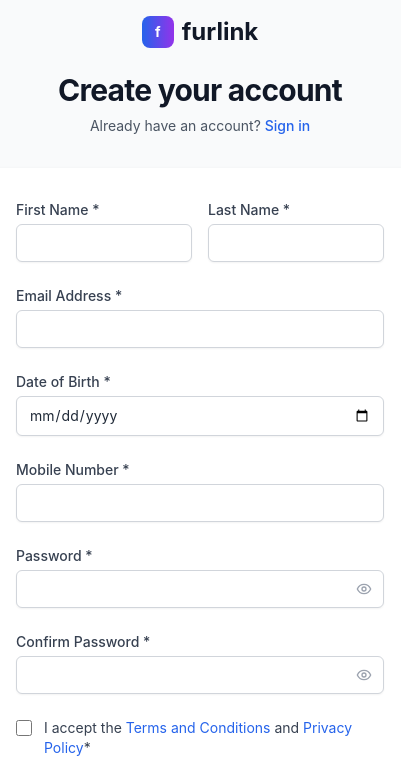
Test: SignUpPage › shows password requirements when typing password
Type "Test123!" into the password field labelled "Password *".
click(200, 589); type("Test123!")  # box [16,570,384,608]
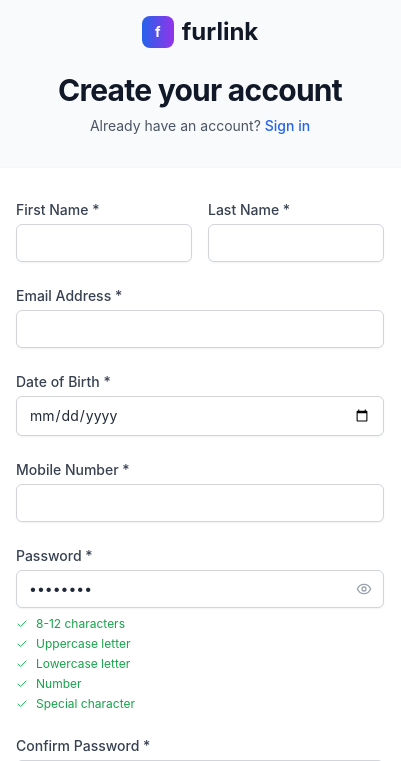
Check: the text "8-12 characters" is shown, box [36,616,125,632]
Check: the text "Uppercase letter" is shown, box [36,636,130,652]
Check: the text "Lowercase letter" is shown, box [36,656,130,672]
